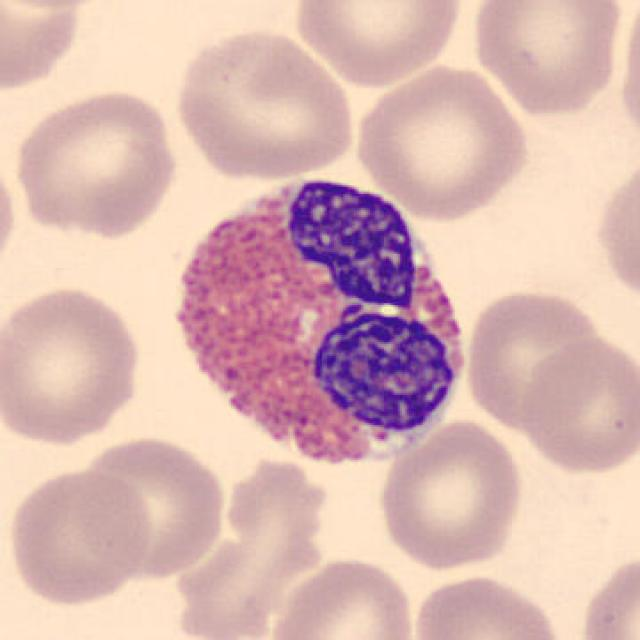eosinophil: (180, 175, 482, 462)
rbc: (184, 452, 320, 640), (183, 31, 354, 178), (0, 287, 143, 444), (21, 92, 179, 230), (390, 422, 525, 575), (362, 71, 515, 204), (471, 288, 601, 439), (15, 472, 160, 601), (79, 437, 214, 571), (525, 335, 640, 479), (475, 3, 615, 120), (286, 0, 457, 90), (416, 568, 572, 640), (284, 560, 418, 640), (0, 0, 81, 89), (586, 167, 640, 289), (580, 546, 640, 640)
